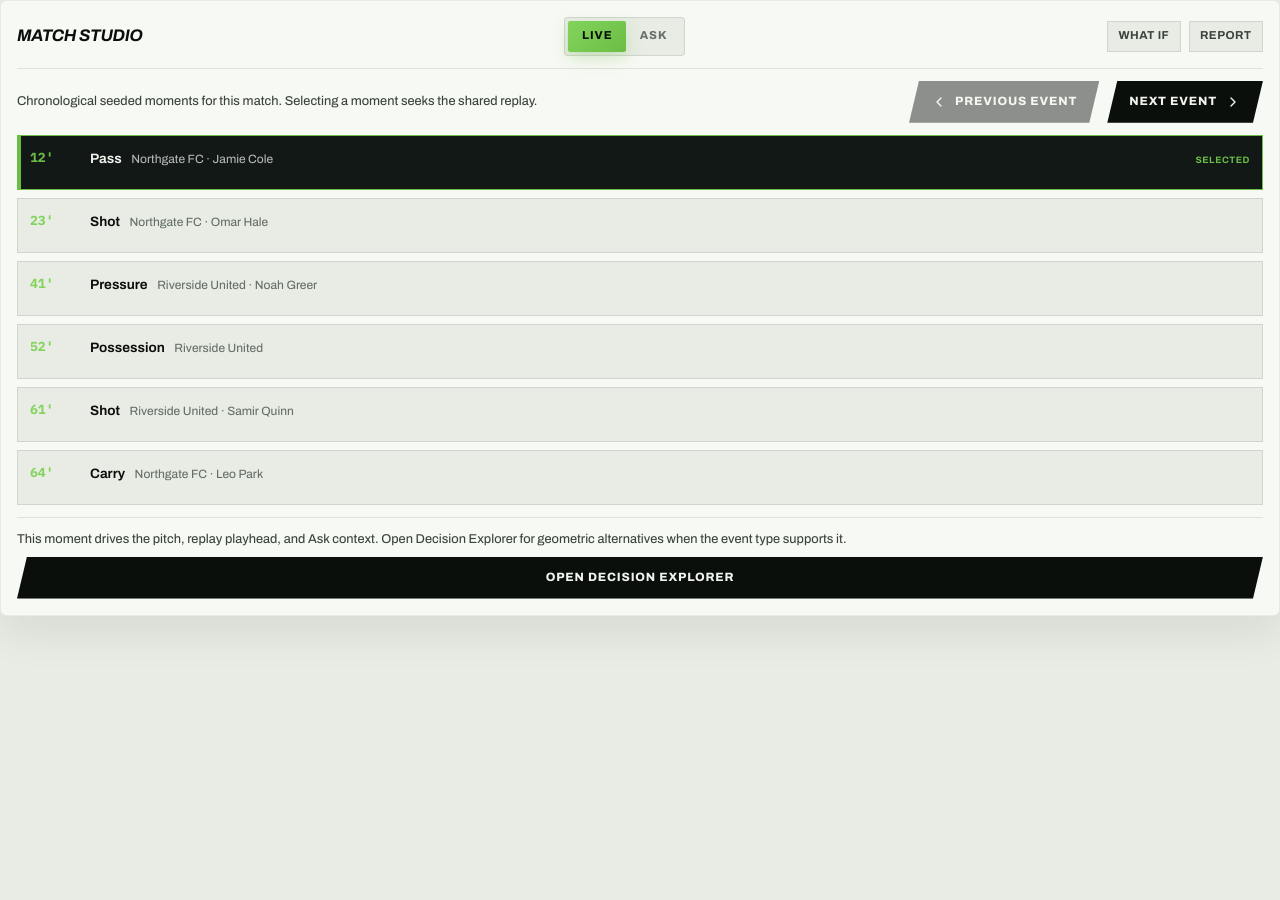
Test: MatchStudioPanel › shows ask loading state while the crew request is in flight
Click the tab "Ask" at point(654, 36), box [626,21,681,52]
(page scrolled)
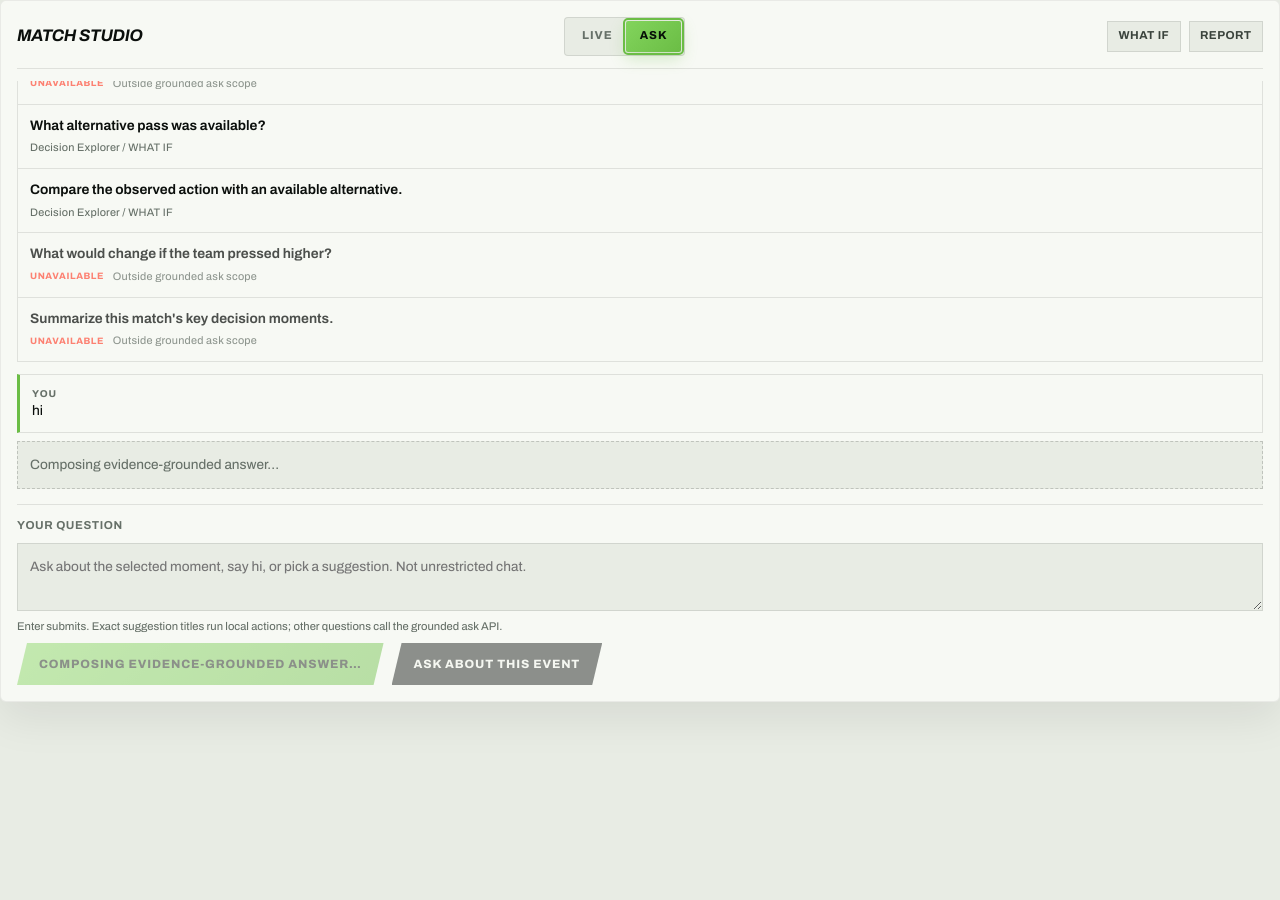
Now the element with test id "ask-pending-question" shows "hi", box [32,403,43,418]
Now the message with test id "ask-crew-loading" reads "Composing evidence-grounded answer…", box [30,457,279,472]
